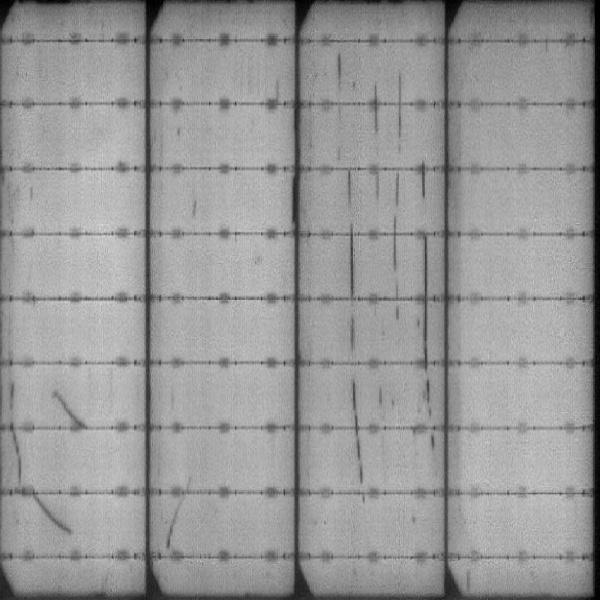scratch: (418, 233, 435, 447), (342, 170, 359, 358), (390, 74, 403, 319), (26, 498, 78, 535), (352, 372, 366, 501), (7, 375, 20, 488), (164, 500, 190, 550), (53, 392, 88, 425), (370, 85, 379, 141), (335, 48, 345, 91), (419, 163, 429, 200)
